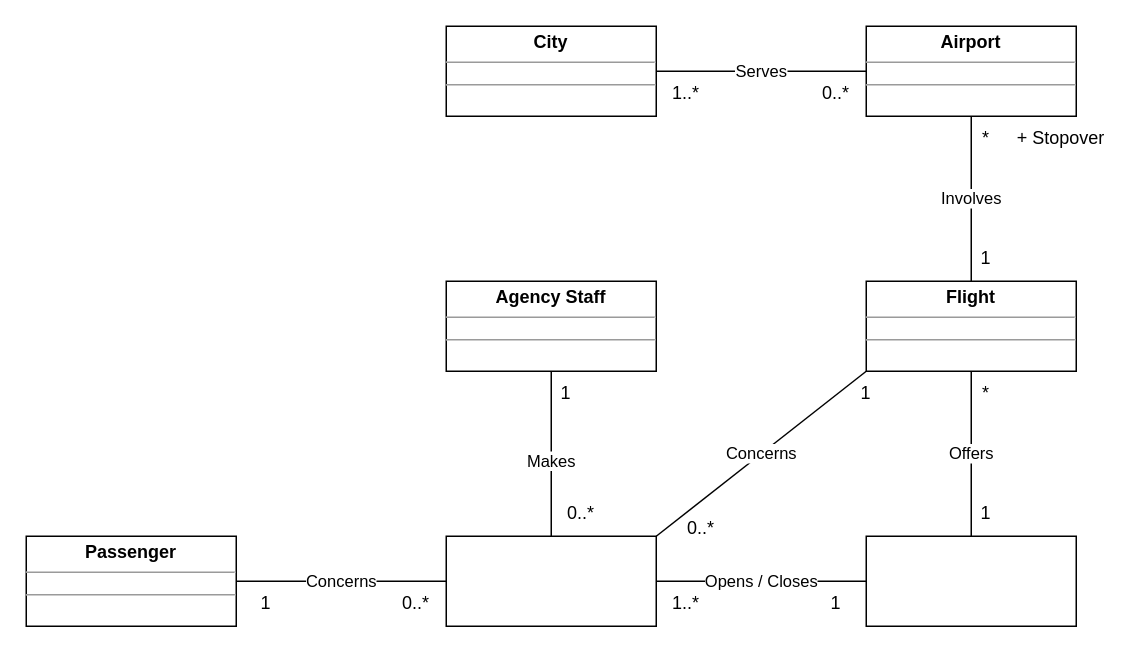
Image size: 1148x653. Some labels were removed from this diagram. Each missing label, with the box of its shape:
Airline Companies: (865, 535, 1076, 626)
Booking: (445, 535, 656, 626)
